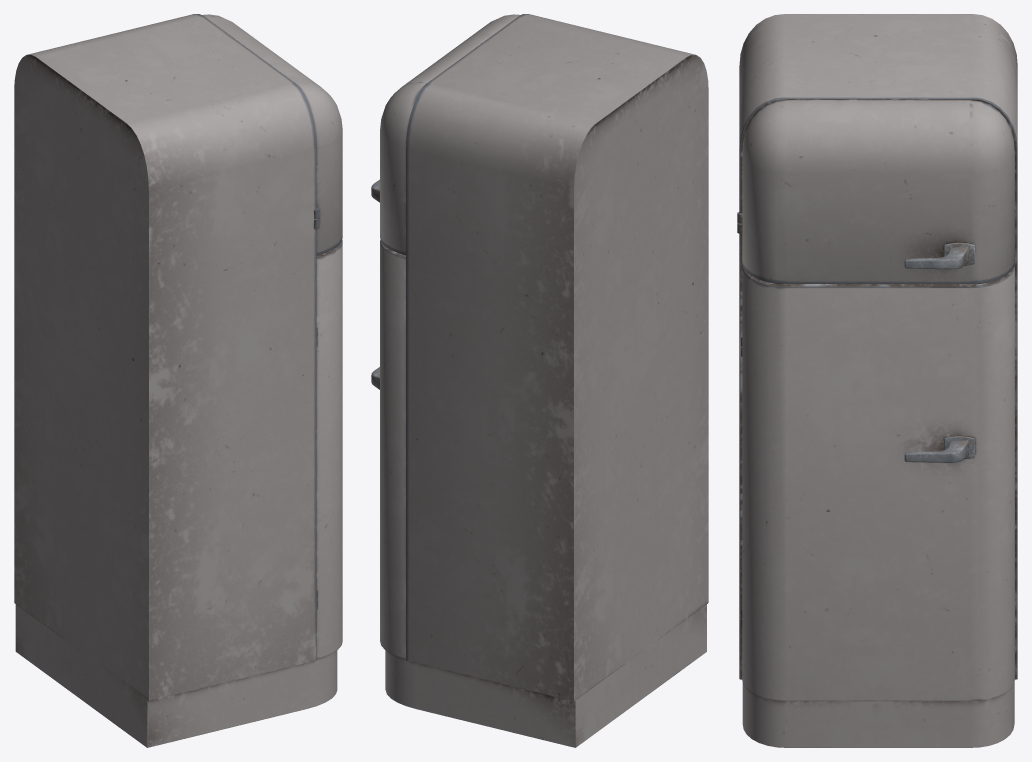
File: fridge.glb
3 views of the same model, side by side, from view 1: azimuth 30°, elevation 25°; view 2: azimuth 150°, elevation 25°; view 3: azimuth 270°, elevation 25° (orthographic). The views are drawn at different scales.
Visible parts, largest first — view 1: fridge.002; view 2: fridge.002; view 3: fridge.002.
Part boxes in pixels (x1=…): fridge.002: x1=14, y1=14, x2=342, y2=747; fridge.002: x1=371, y1=14, x2=708, y2=747; fridge.002: x1=737, y1=14, x2=1017, y2=747.
Size of the model in its own units: 0.4405 by 1.1 by 0.4448.
1 material, 1 textured.
